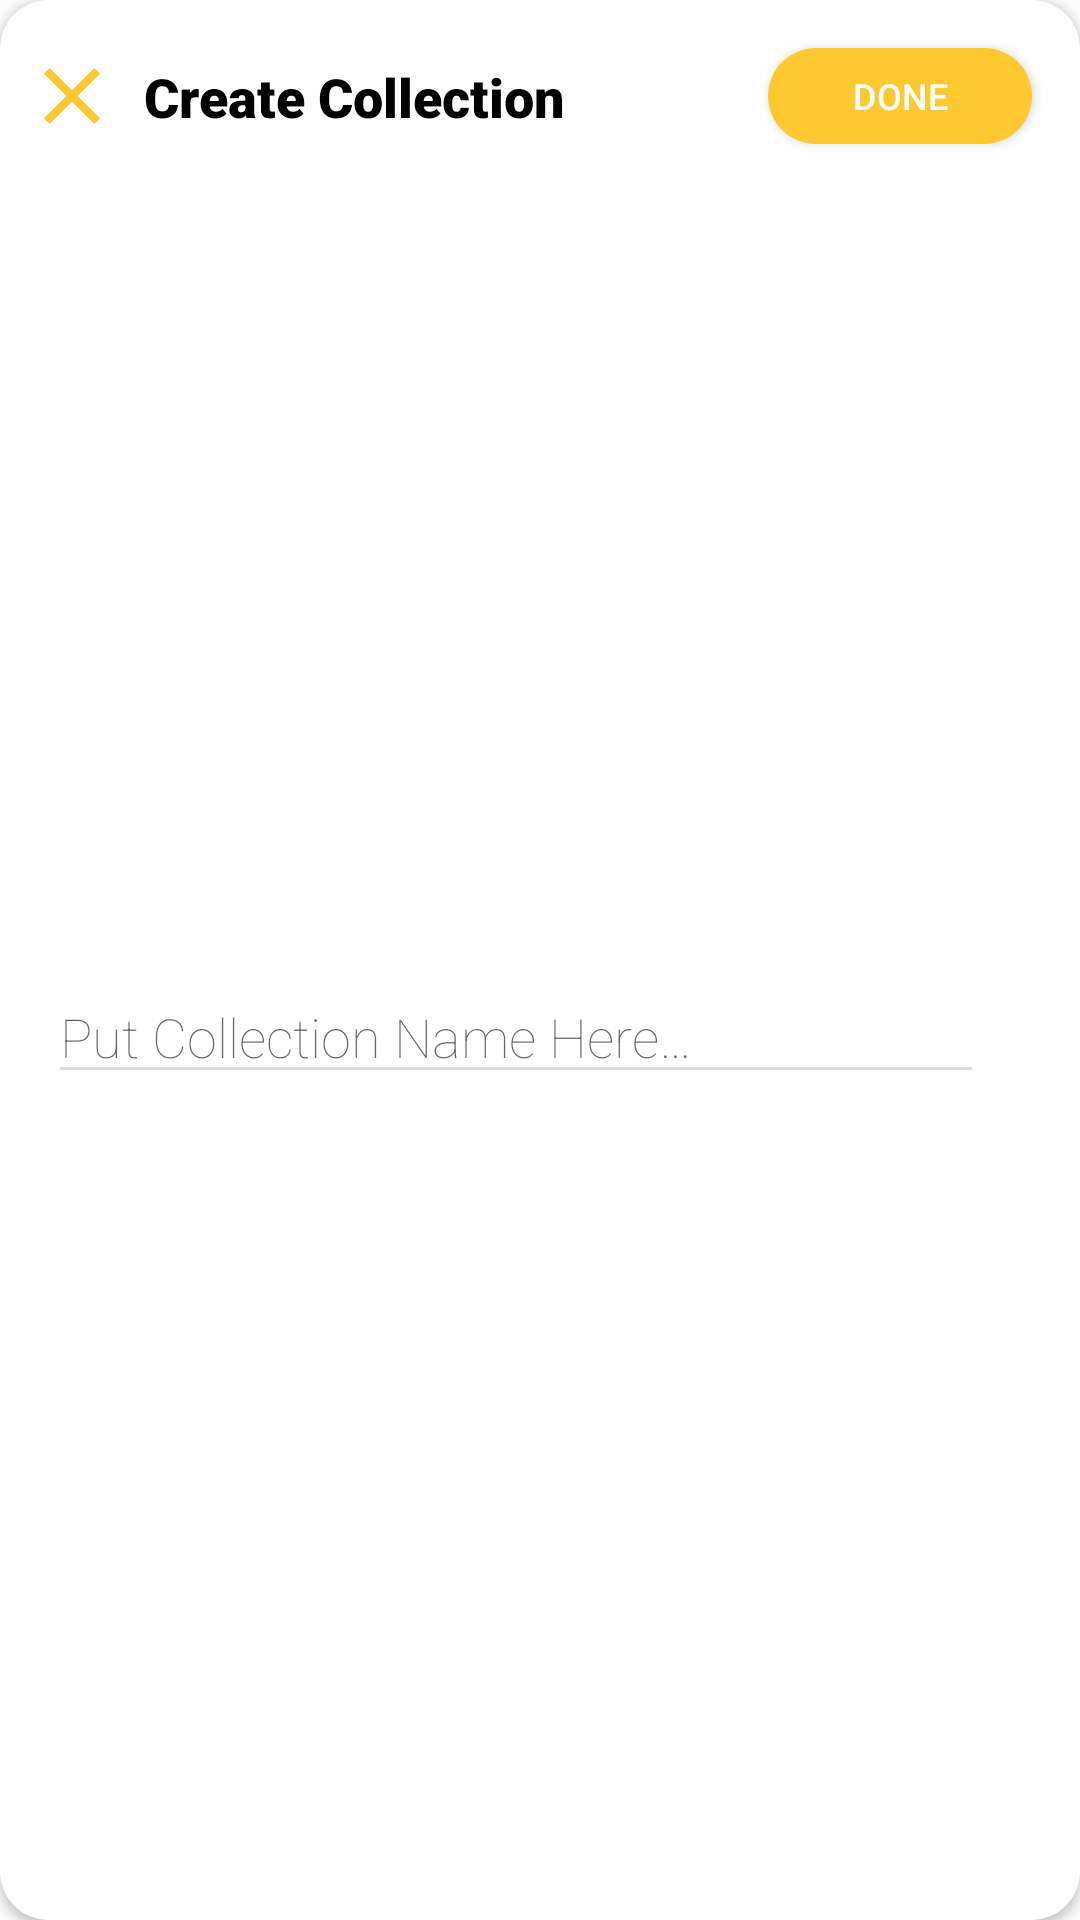

Screen size 1080 x 1920. Icon name, then its center in pixels as (x=x, y=y):
Cancel Adding: (x=72, y=96)
